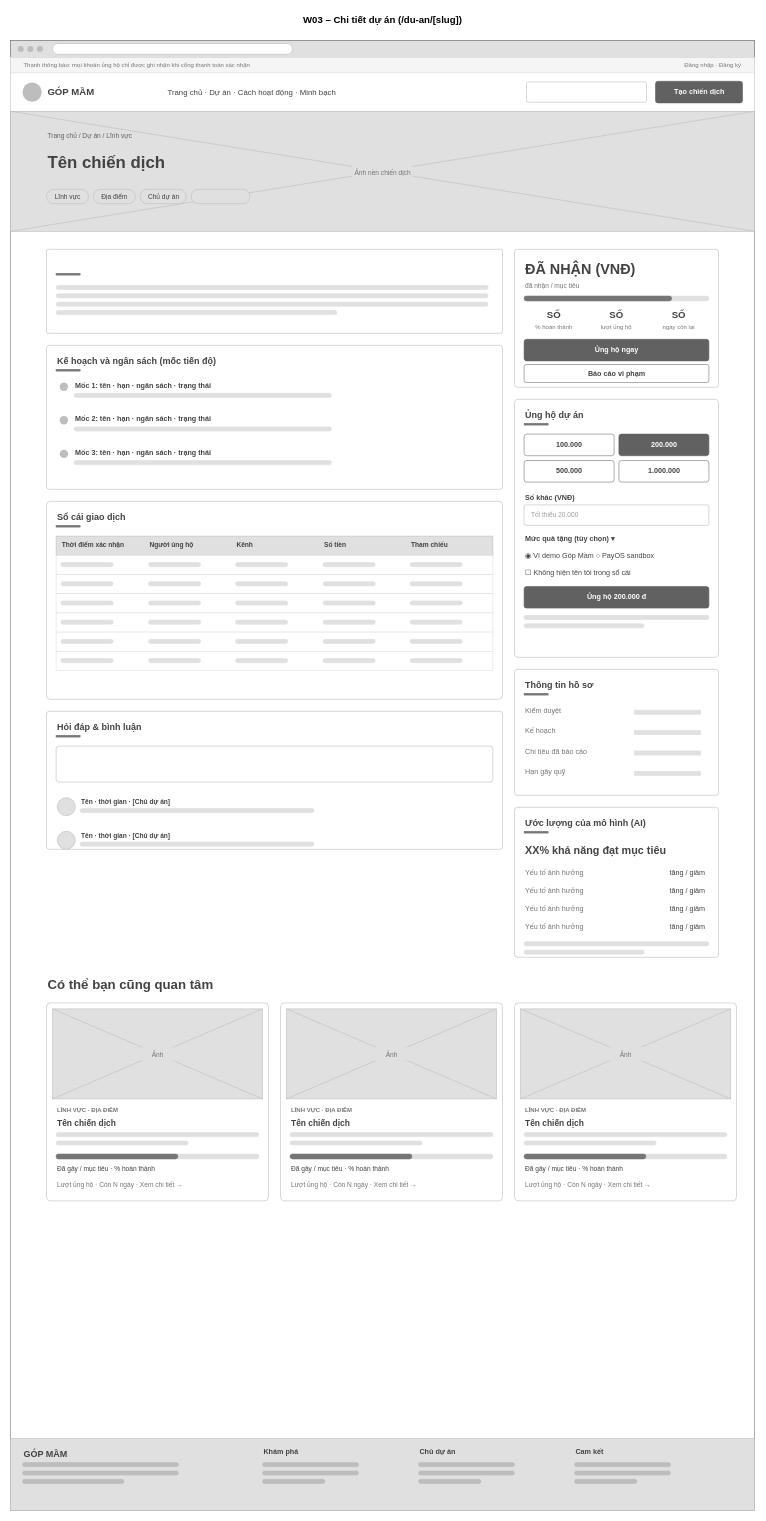
This 766x1521 diagram has some shape labels left out. Here are the shapes that lost their labels. From the top down, the centre of each, then its label:
the point at 172,48: https://gopmam.com
the point at 586,91: Tìm dự án…
the point at 220,196: Đang gây quỹ
the point at 274,291: Giới thiệu dự án
the point at 274,764: Đặt câu hỏi hoặc chia sẻ ý kiến…
